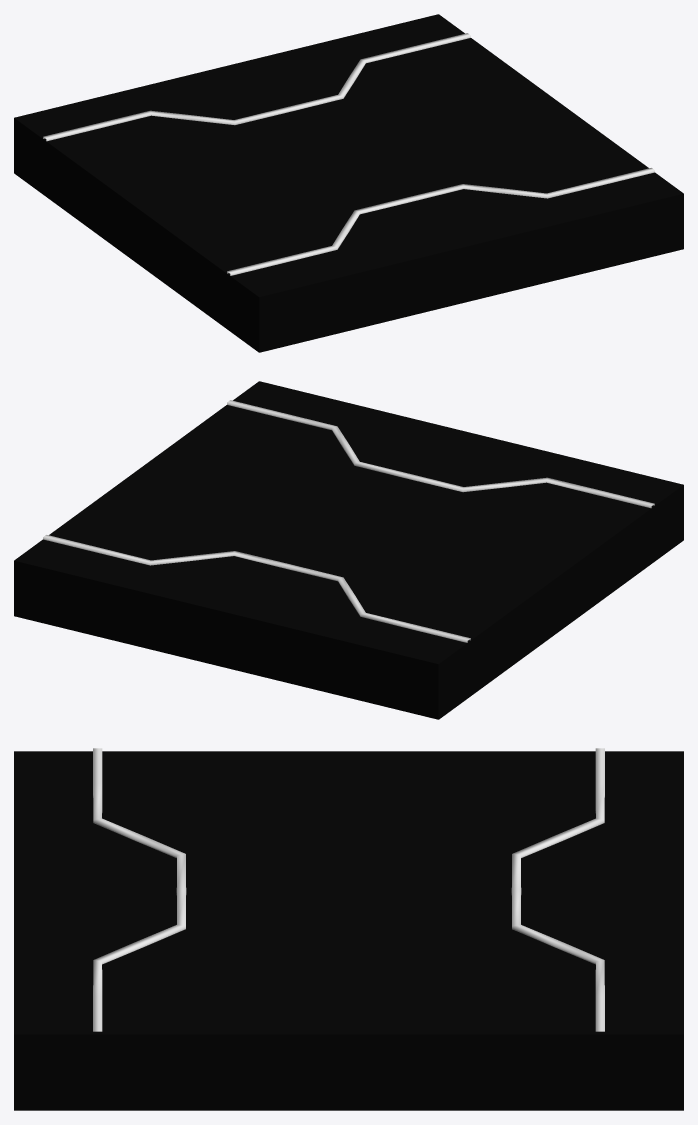
The model's file is cyberRoof.fbx.
The picture shows the model from 3 angles, top to bottom: view 1: azimuth 30°, elevation 25°; view 2: azimuth 150°, elevation 25°; view 3: azimuth 270°, elevation 25°; orthographic projection. The views are drawn at different scales.
Visible parts, largest first — view 1: cyberRoof; view 2: cyberRoof; view 3: cyberRoof.
Part boxes in pixels (x1,y1,x2,y2): cyberRoof: (14, 14, 683, 352); cyberRoof: (14, 381, 683, 719); cyberRoof: (14, 748, 683, 1110).
Bounding box in the file's own units: 100 × 13 × 100.
1 material, 1 textured.
